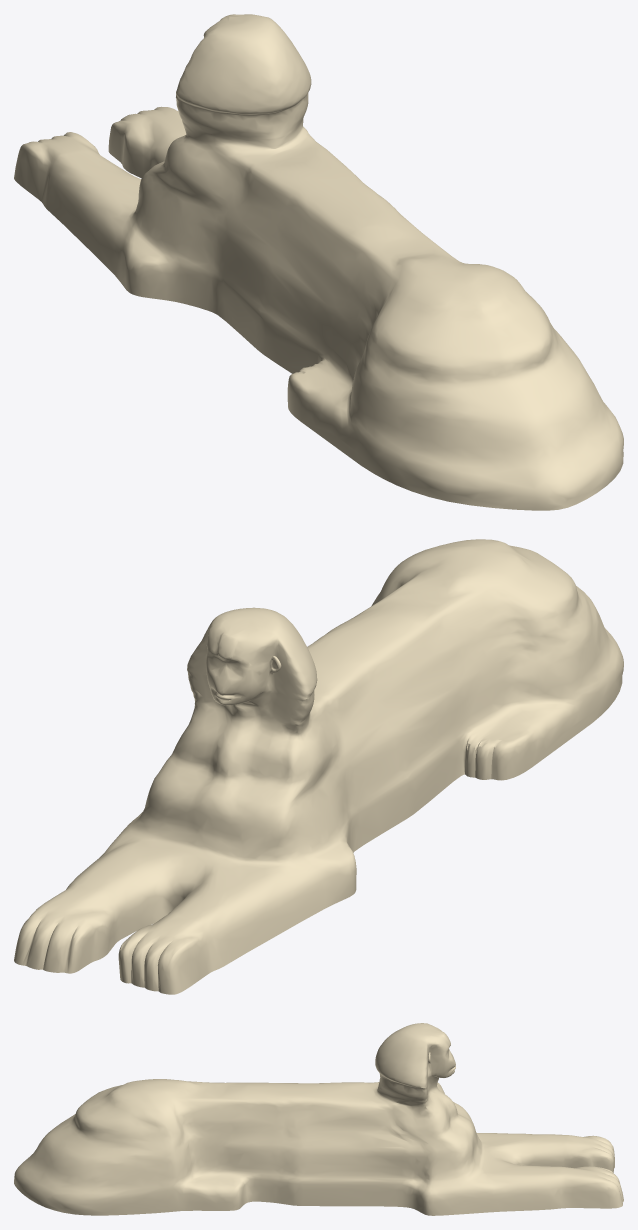
The model's file is sphinx.glb.
The picture shows the model from 3 angles, top to bottom: view 1: azimuth 30°, elevation 25°; view 2: azimuth 150°, elevation 25°; view 3: azimuth 270°, elevation 25°; orthographic projection. The views are drawn at different scales.
Parts seen in each view (by area): view 1: Great-Sphinx; view 2: Great-Sphinx; view 3: Great-Sphinx.
Boxes of the visible parts, <box> form: Great-Sphinx: <box>14,14,623,510</box>; Great-Sphinx: <box>14,539,623,994</box>; Great-Sphinx: <box>14,1023,623,1215</box>.
Bounding box in the file's own units: 18.86 × 20.46 × 73.
